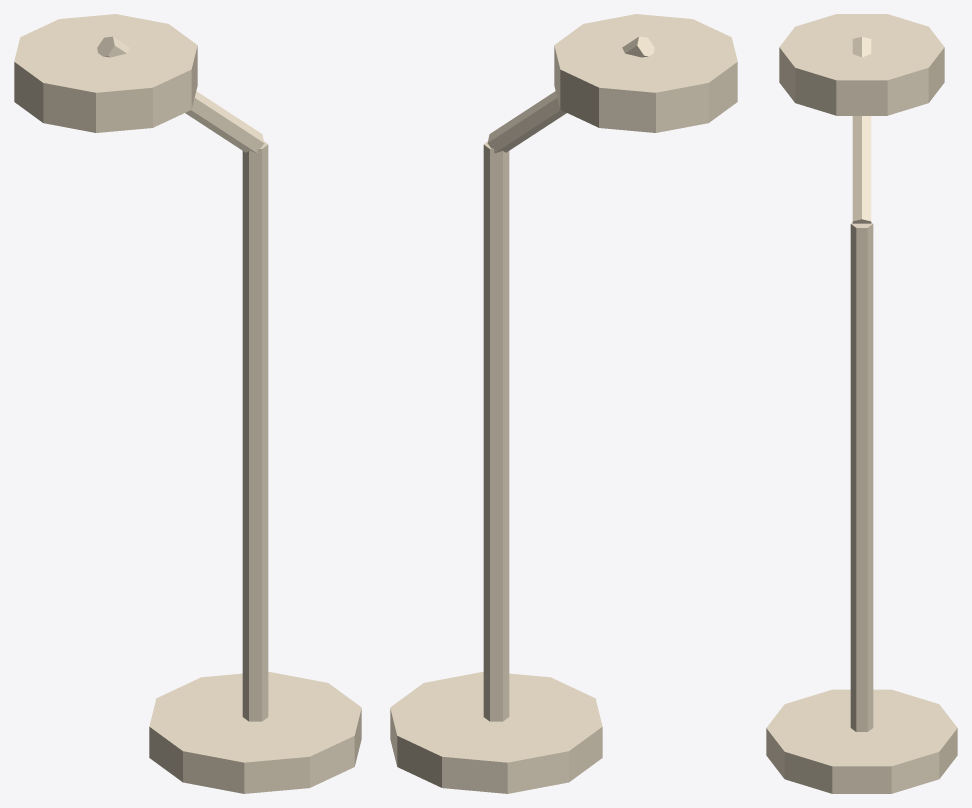
The picture shows the model from 3 angles, left to right: view 1: azimuth 30°, elevation 25°; view 2: azimuth 150°, elevation 25°; view 3: azimuth 270°, elevation 25°; orthographic projection. The views are drawn at different scales.
Parts seen in each view (by area): view 1: Base, Lamp head, Stand, Arm; view 2: Base, Lamp head, Stand, Arm; view 3: Base, Lamp head, Stand, Arm.
Part boxes in pixels (x1,y1,x2,y2): Base: (149, 671, 361, 793); Lamp head: (14, 14, 197, 132); Stand: (242, 141, 268, 721); Arm: (97, 36, 264, 153); Base: (390, 671, 602, 793); Lamp head: (554, 14, 737, 132); Stand: (483, 141, 509, 721); Arm: (487, 36, 654, 153); Base: (766, 689, 957, 793); Lamp head: (779, 14, 944, 115); Stand: (850, 222, 873, 731); Arm: (852, 37, 871, 223).
Bounding box in the file's own units: 0.7399 × 1.67 × 0.44.
1 material, 1 textured.
